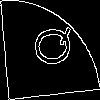Q: (25, 25, 74, 69)
